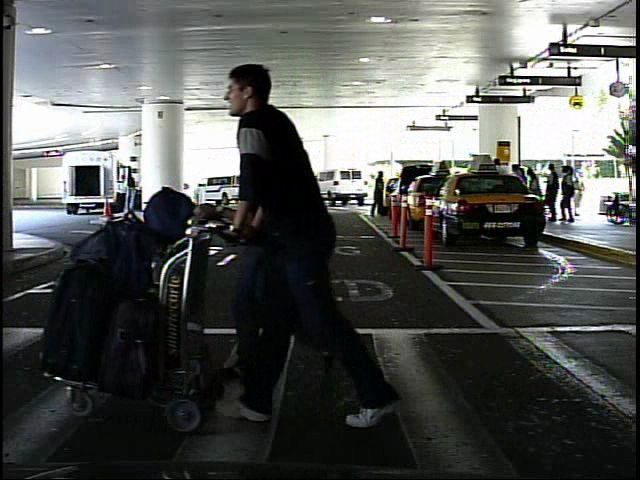person: (217, 48, 392, 428), (372, 167, 391, 222), (573, 172, 593, 219), (112, 170, 130, 219)
